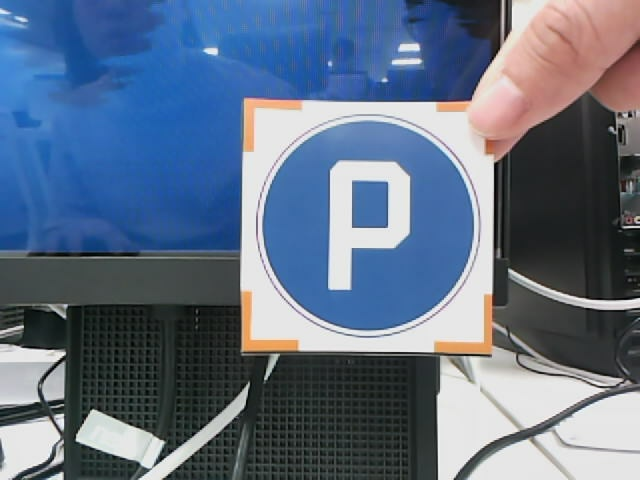parking: (255, 113, 482, 339)
